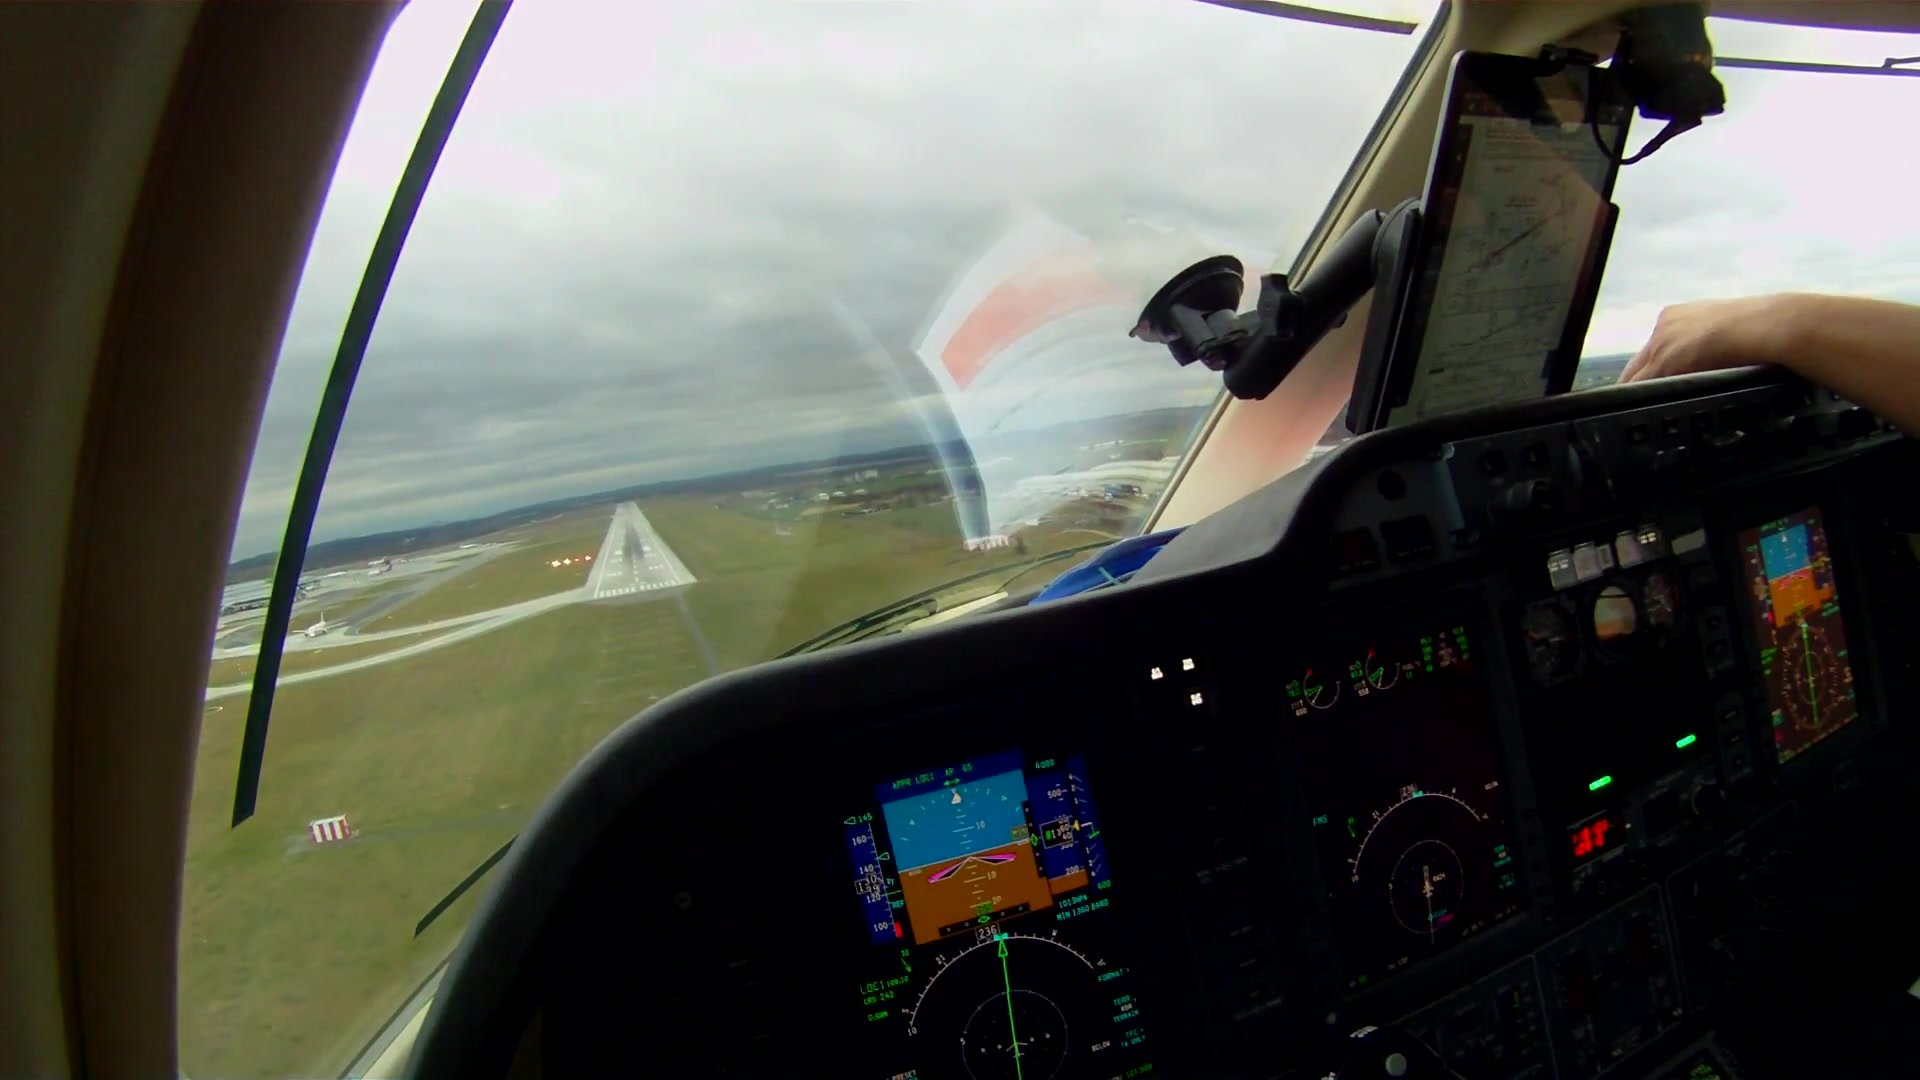entrance: (601, 578, 678, 597)
runway: (580, 501, 696, 603)
